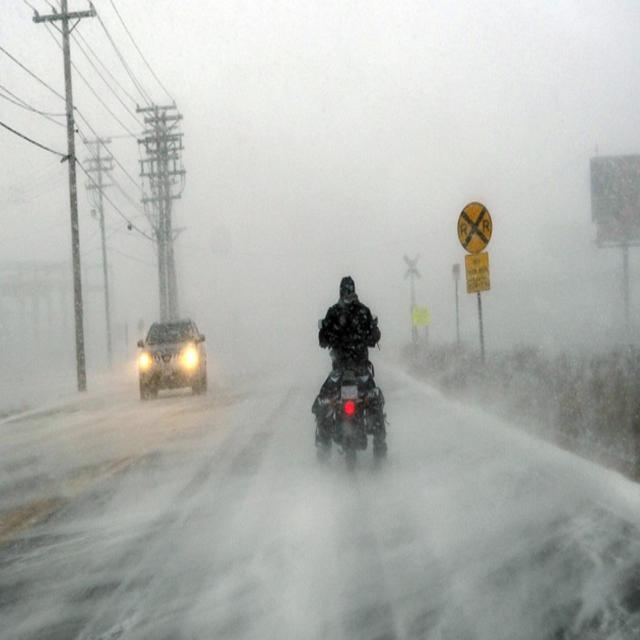Car: (134, 320, 211, 396)
Cycle: (316, 319, 382, 474)
